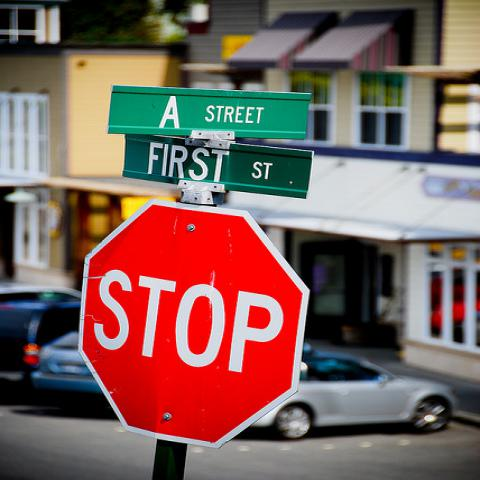car: (247, 351, 457, 438), (0, 281, 81, 382), (32, 332, 103, 412)
